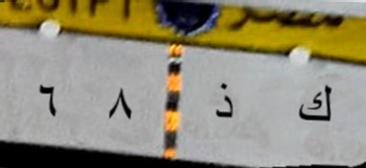6: (34, 80, 64, 124)
8: (103, 83, 137, 127)
kaaf: (292, 74, 336, 133)
zaal: (210, 79, 237, 124)
